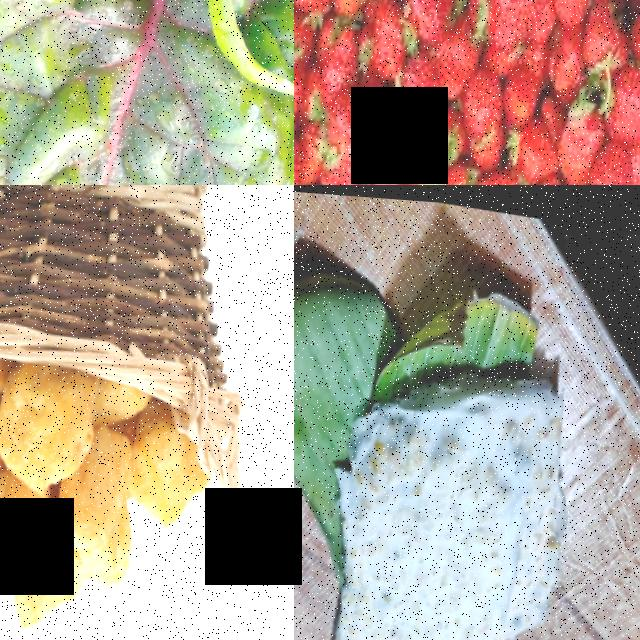spinach: (0, 0, 280, 185)
strawberry: (328, 70, 386, 160), (604, 57, 640, 142)
tempeh: (326, 376, 540, 640)
tofu: (0, 355, 102, 488), (75, 420, 135, 568), (0, 473, 42, 585)
